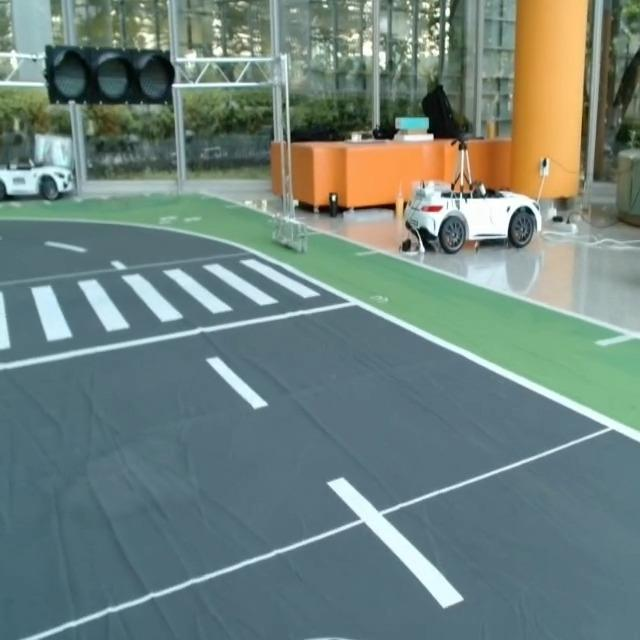traffic-light: (44, 44, 184, 111)
